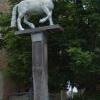Statue: (6, 1, 64, 42)
